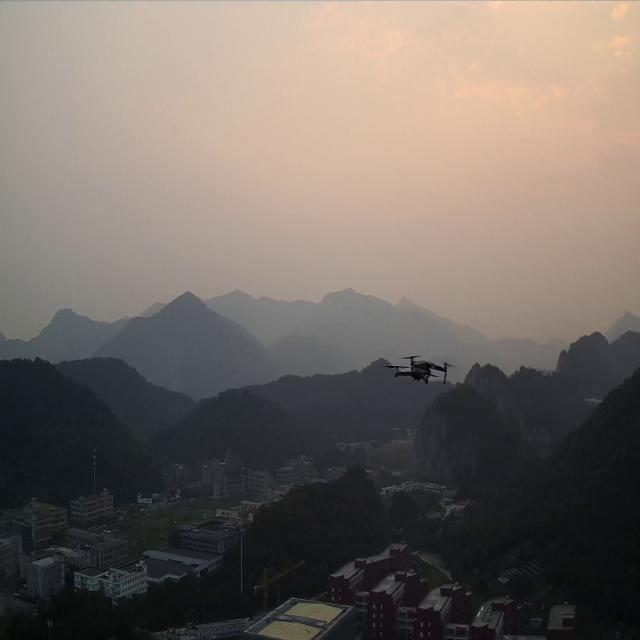UAV: (383, 354, 457, 384)
